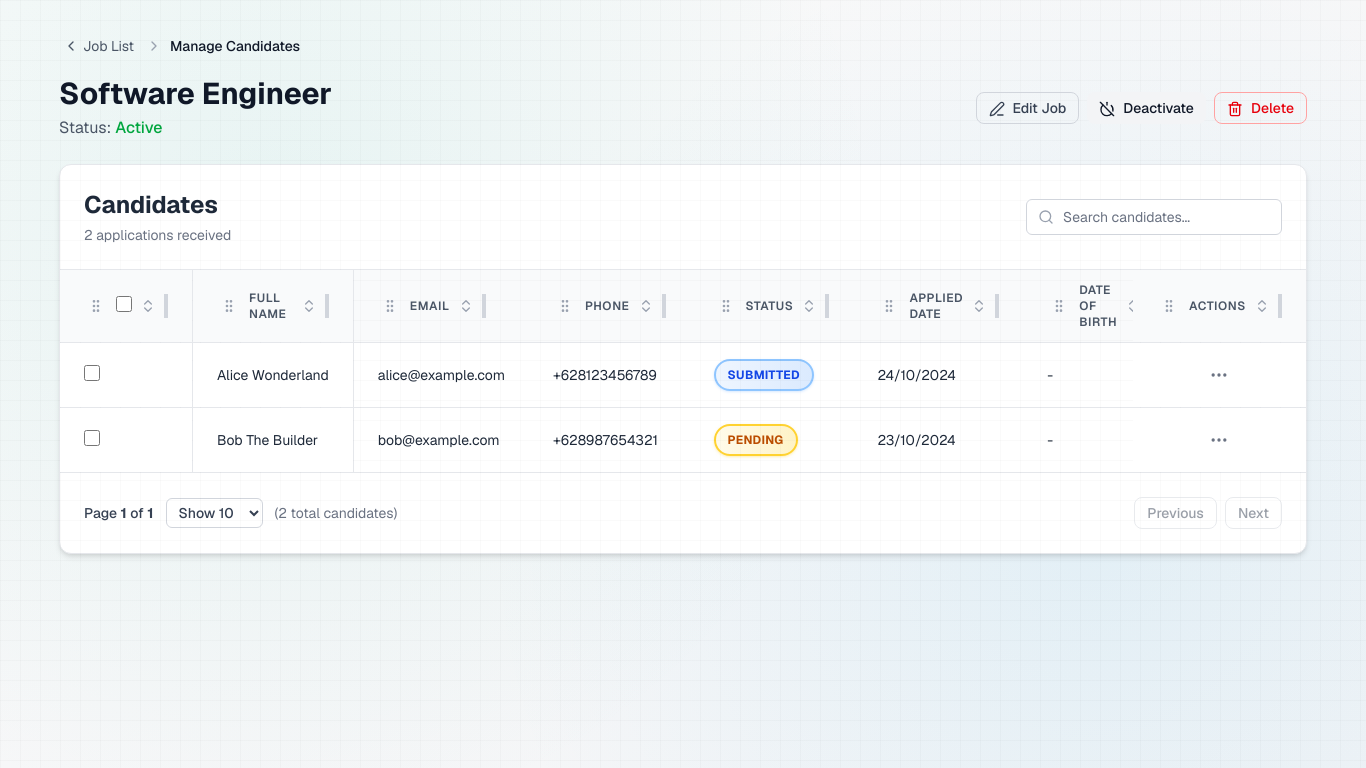
Test case: ManageCandidatesPage › filters candidates based on search query
The image size is (1366, 768).
Type "Alice" into the field with placeholder "Search candidates...". click: {"x": 1154, "y": 217}
box: 1026,199 -> 1282,235
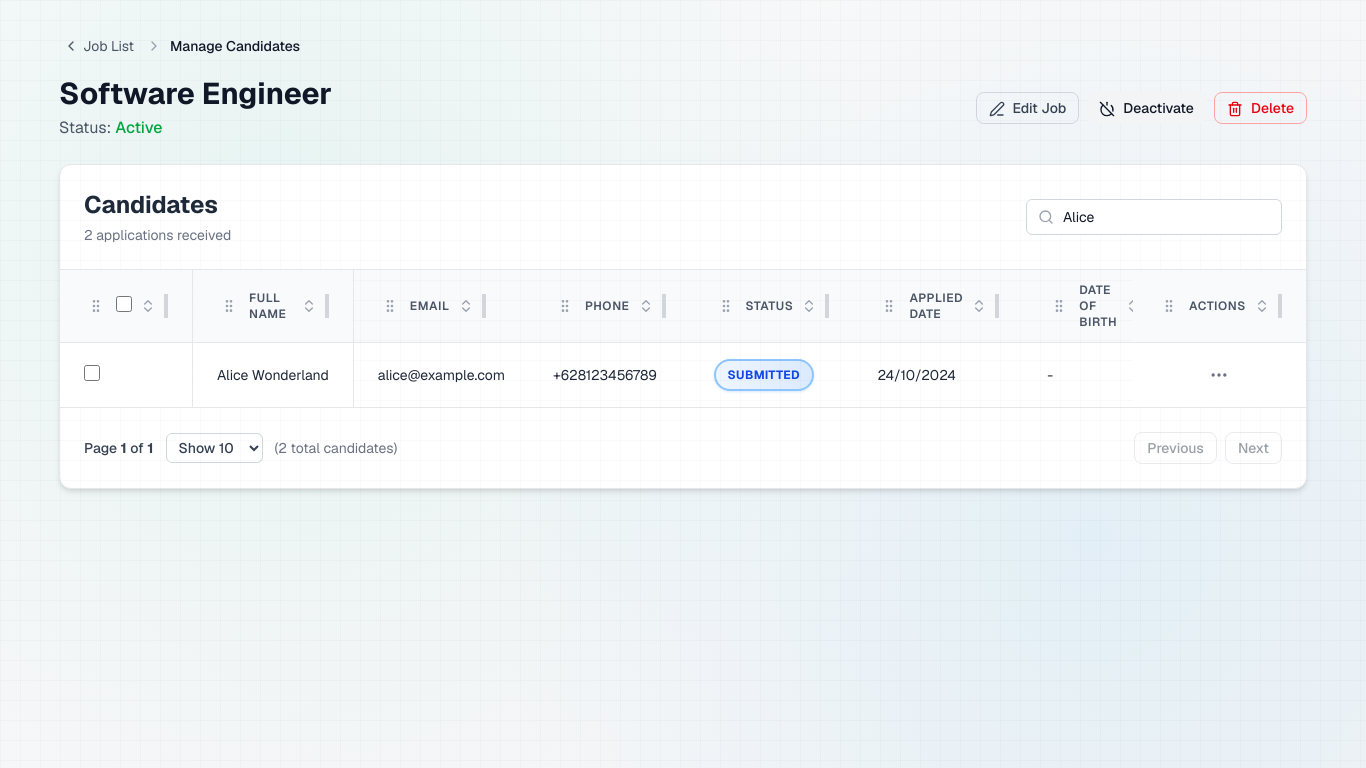
Expected: the text "Alice Wonderland" is shown, 192,342 -> 353,407
Now the text "Bob The Builder" is gone
